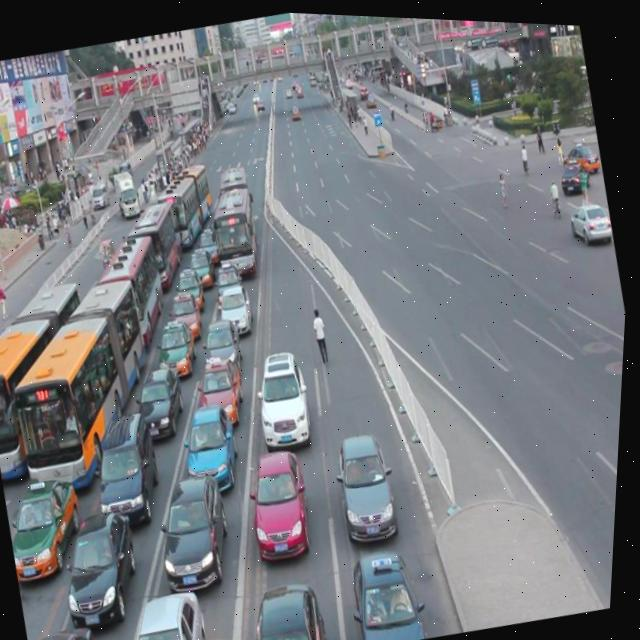car: (57, 510, 156, 633), (155, 475, 247, 598), (5, 475, 97, 585), (90, 413, 174, 532), (245, 449, 325, 562), (347, 543, 438, 640), (332, 431, 410, 544), (253, 350, 324, 453), (182, 404, 250, 497), (243, 578, 337, 640), (123, 590, 221, 640), (136, 367, 196, 445), (197, 356, 254, 432), (202, 318, 253, 385), (155, 319, 206, 382), (565, 192, 616, 243), (218, 287, 260, 337), (170, 293, 209, 342), (174, 266, 210, 313), (185, 246, 221, 292), (214, 261, 250, 306), (559, 134, 600, 171), (555, 152, 593, 189), (196, 227, 226, 268), (35, 627, 114, 640)
van: (0, 277, 177, 506), (0, 274, 114, 481), (86, 232, 180, 359), (150, 162, 224, 255), (122, 201, 193, 296), (208, 187, 268, 279), (216, 166, 262, 237)
